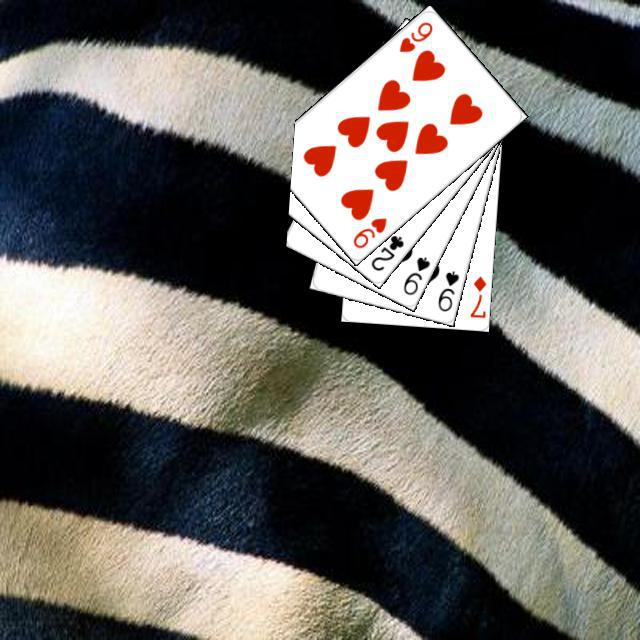2c: (366, 230, 406, 273)
7d: (465, 271, 488, 319)
9h: (348, 212, 389, 250), (394, 17, 434, 54)
9s: (398, 252, 432, 297), (433, 266, 461, 313)
